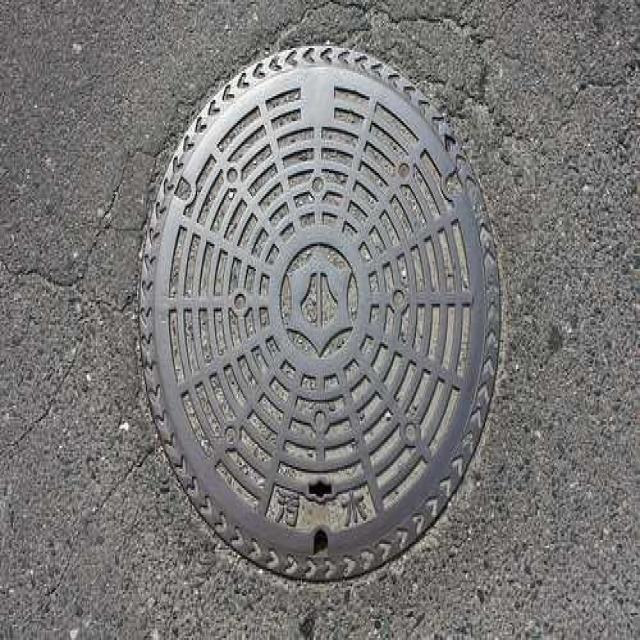manhole: (141, 47, 500, 579)
